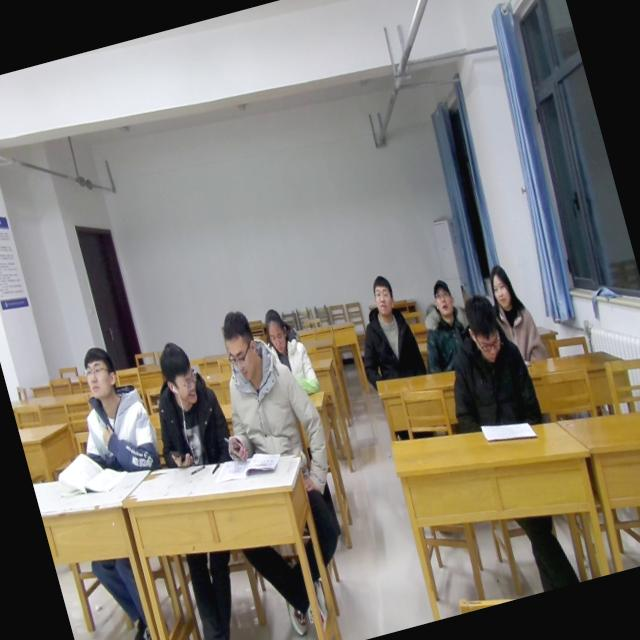down: (455, 286, 511, 373), (212, 302, 268, 388), (257, 302, 296, 360)
lookup: (74, 338, 124, 410), (362, 266, 402, 322), (422, 270, 462, 326), (480, 258, 520, 314)
sit: (193, 296, 327, 469), (425, 286, 546, 442), (58, 336, 166, 489), (134, 332, 238, 478), (342, 269, 429, 391), (405, 272, 483, 377), (478, 256, 549, 371), (256, 300, 324, 405)
